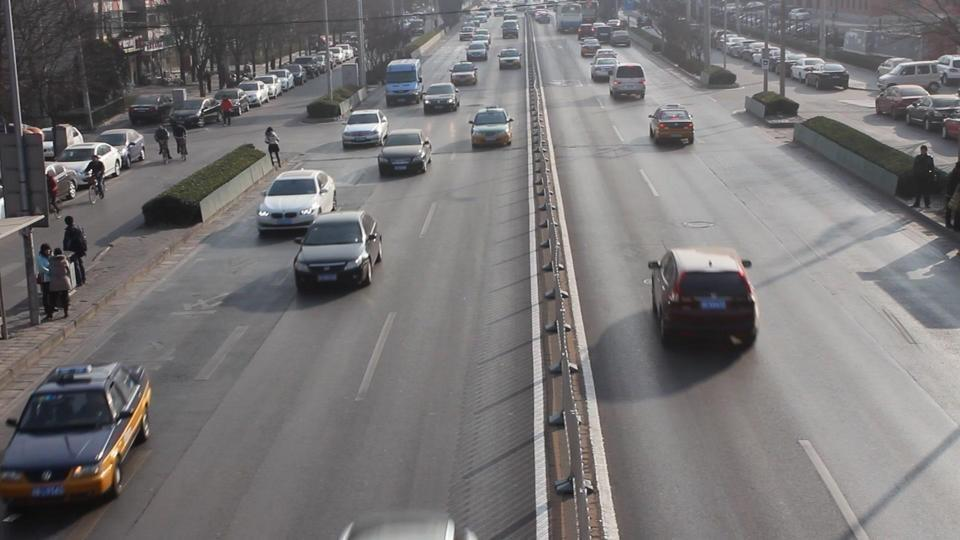car: (0, 361, 154, 511), (646, 243, 759, 349), (292, 209, 384, 292), (256, 168, 337, 231), (376, 129, 433, 178), (50, 142, 120, 181), (876, 59, 946, 93), (647, 103, 695, 146), (874, 83, 933, 117), (904, 95, 960, 130), (467, 107, 514, 148), (341, 110, 390, 149), (96, 128, 146, 166), (127, 91, 179, 126), (168, 98, 222, 129), (800, 60, 850, 91), (609, 63, 647, 102), (421, 81, 460, 114), (590, 50, 619, 83), (238, 81, 272, 107), (448, 62, 479, 86), (466, 36, 490, 62), (497, 47, 523, 70), (941, 116, 960, 140), (501, 17, 520, 39)
